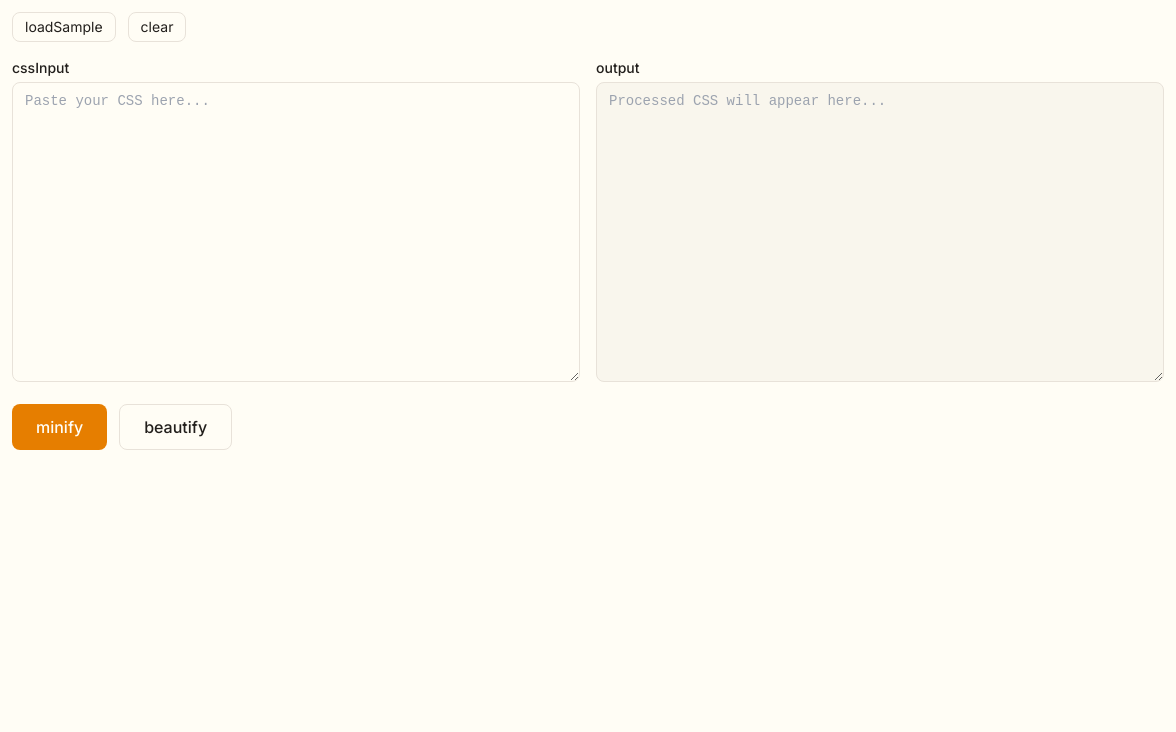
CssMinifier › shows error for empty input on minify
The image size is (1176, 732).
Click the button with aria-label "Minify CSS" at coordinates (60, 427), box [12,404,107,450]
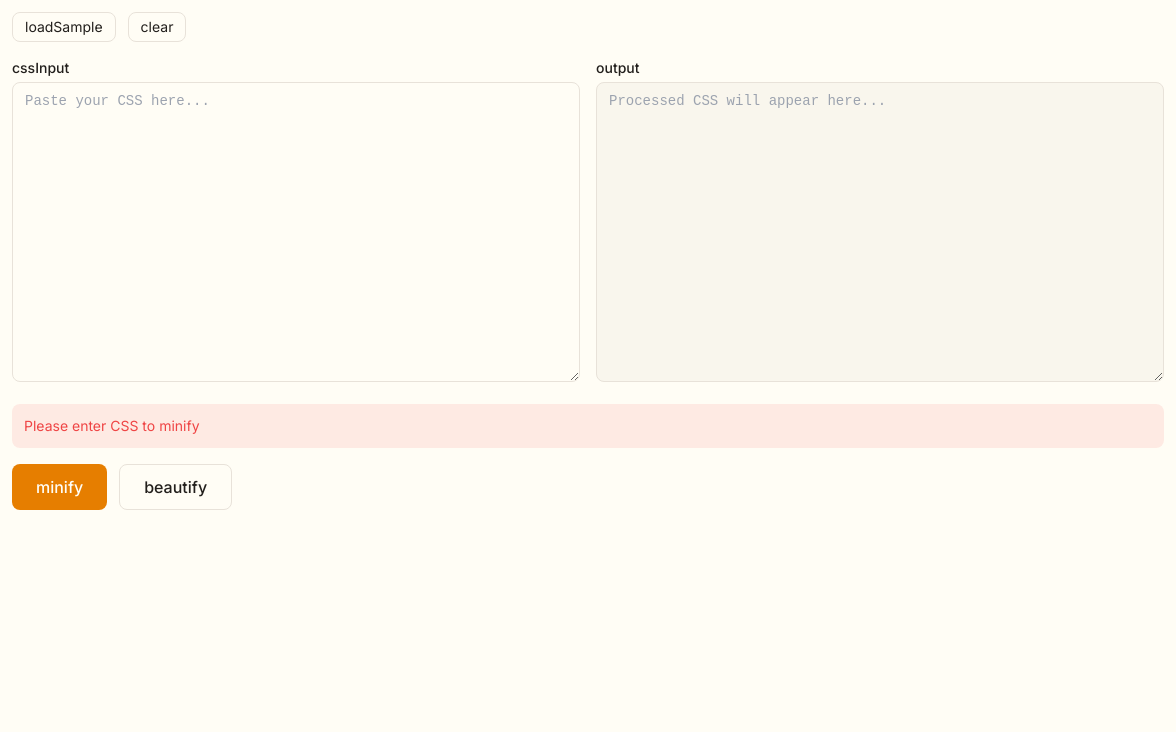
Check: the text "Please enter CSS to minify" is shown, box [12,404,1164,448]
